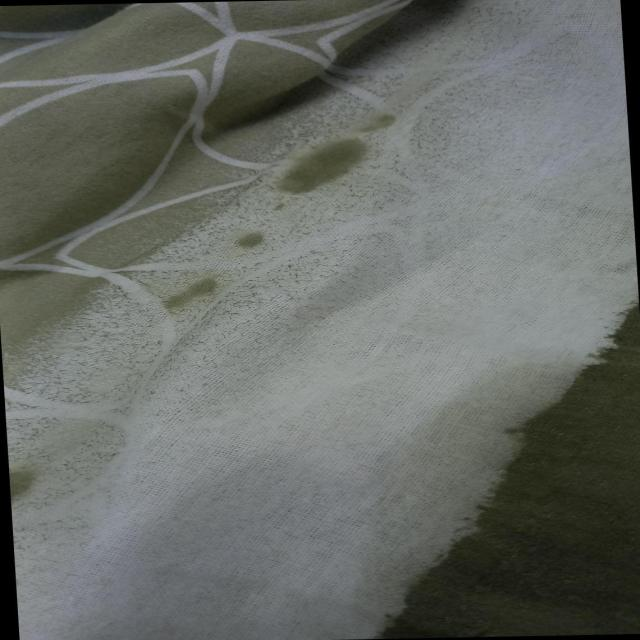baekra: (0, 218, 640, 640), (286, 0, 640, 340)
